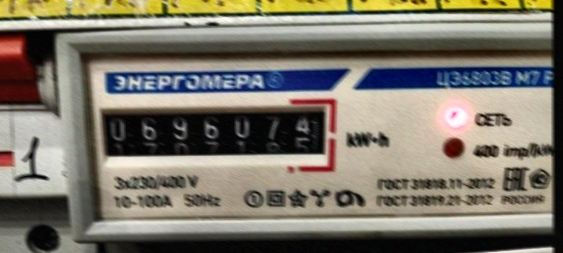0: (107, 114, 126, 139), (234, 110, 250, 136)
4: (295, 109, 311, 133)
5: (295, 133, 310, 151)
6: (140, 111, 159, 139), (202, 112, 219, 136)
7: (263, 111, 281, 137)
9: (170, 112, 189, 137)
screen: (89, 91, 341, 173)
